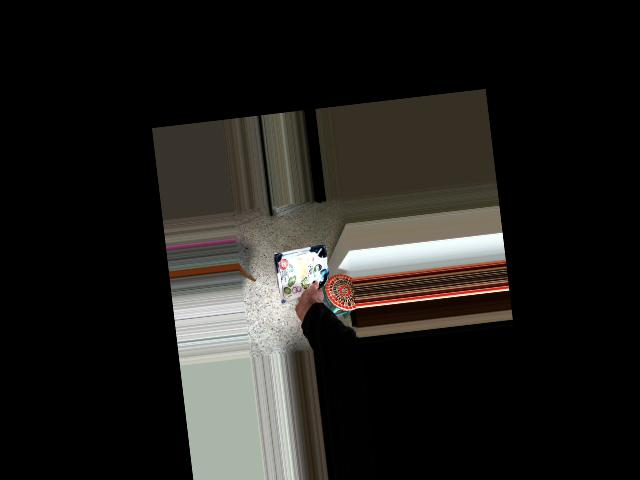cheese: (266, 246, 340, 320)
